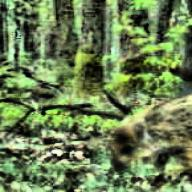boar: (105, 88, 191, 191)
